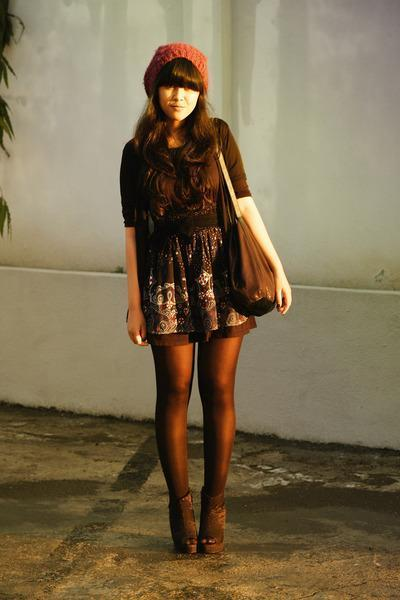bag: (235, 228, 280, 317)
dress: (120, 126, 256, 344)
hat: (150, 44, 206, 83)
shoe: (168, 502, 237, 559)
